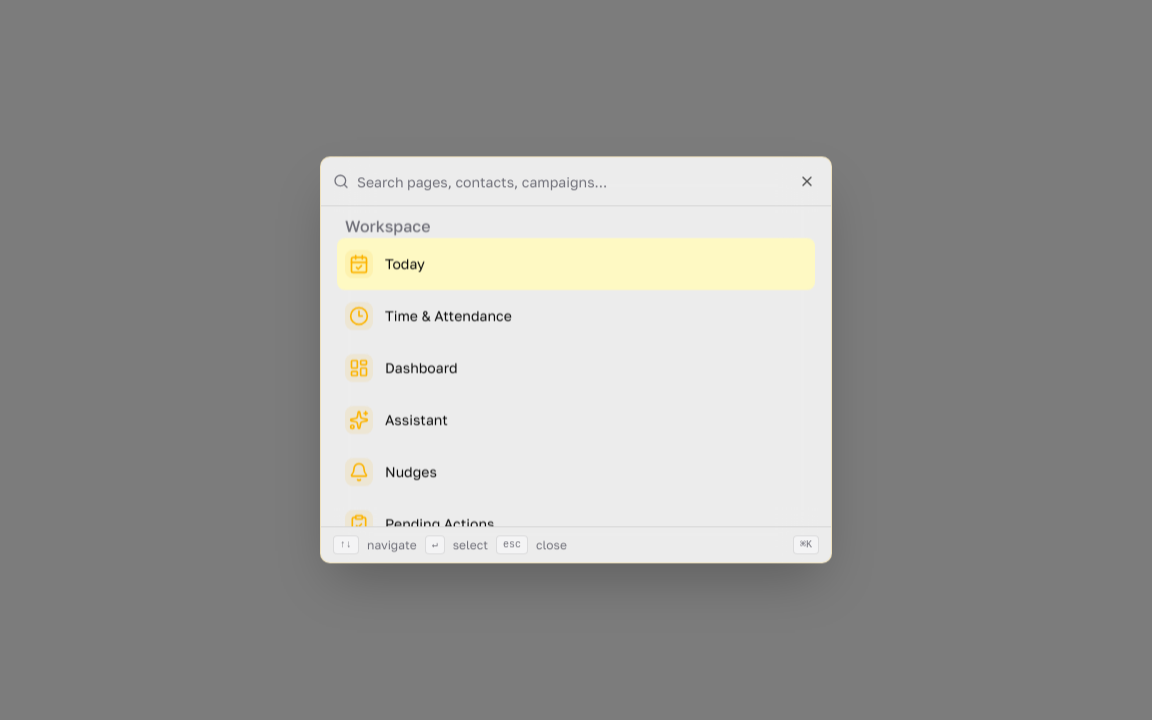
it: CommandPalette › surfaces matching pages under a Pages group when the user types (regression)
Type "quotes" into the dropdown with placeholder "Search pages, contacts, campaigns..." at {"x": 588, "y": 181}, box top-left (357, 157), bottom-right (819, 205)
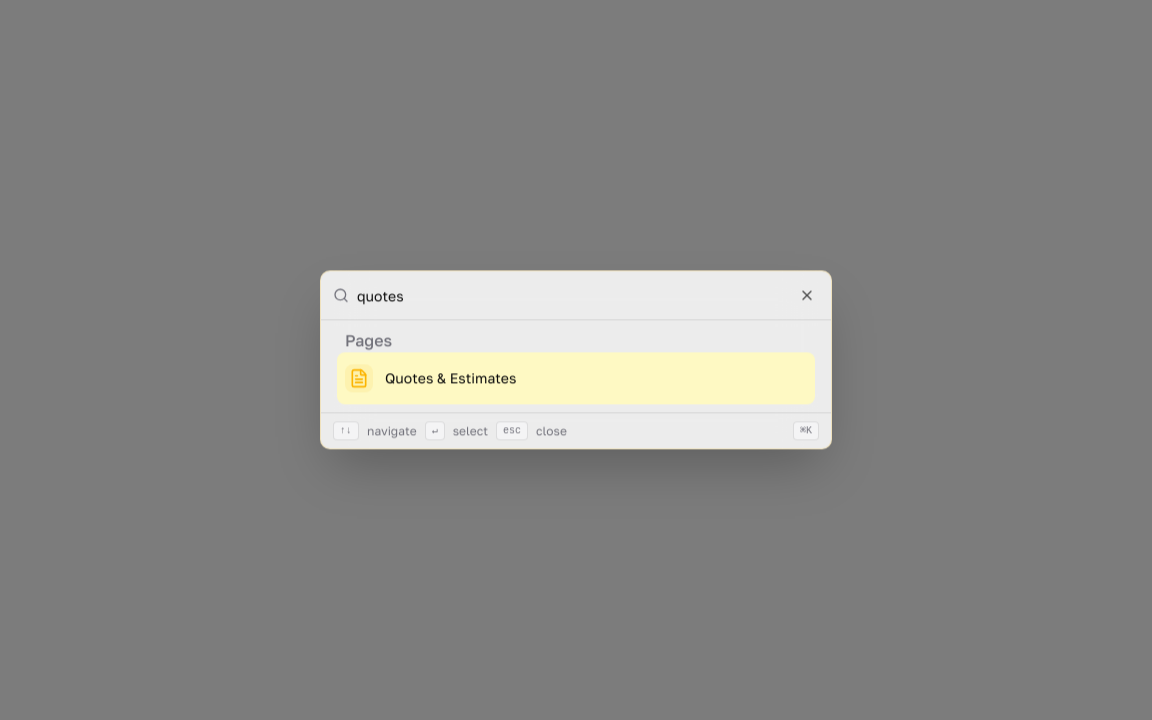
Expected: the text "Pages" is shown, top-left (345, 330), bottom-right (392, 350)
Expected: the option "Quotes & Estimates" is shown, top-left (337, 352), bottom-right (815, 404)
Expected: the option "Dashboard" is gone
